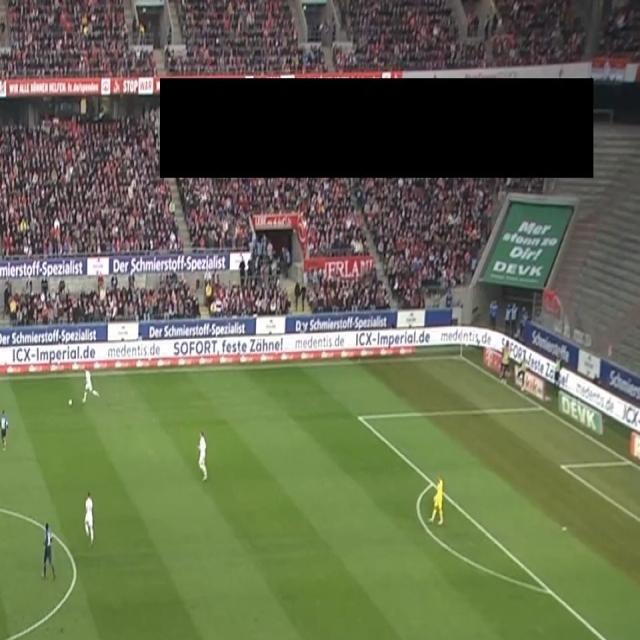ball: (67, 398, 73, 408)
